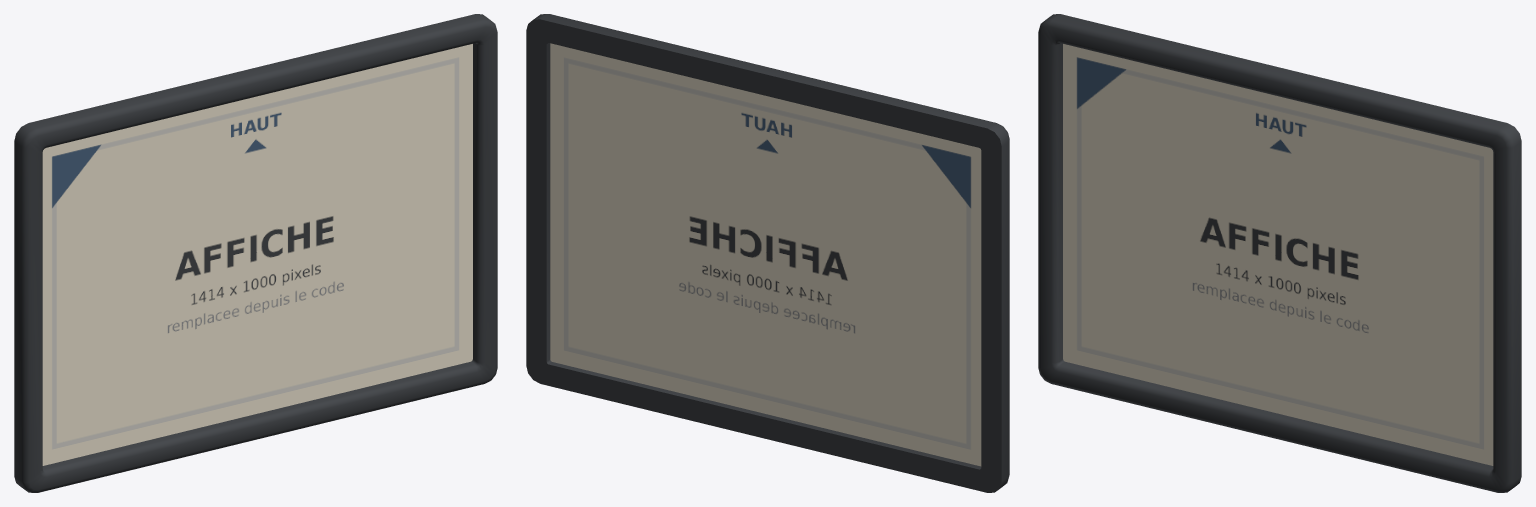
File: affiche_paysage.glb
The picture shows the model from 3 angles, left to right: view 1: azimuth 30°, elevation 25°; view 2: azimuth 150°, elevation 25°; view 3: azimuth 330°, elevation 25°; orthographic projection.
Visible parts, largest first — view 1: AFL_Affiche, AFL_Anthracite; view 2: AFL_Affiche, AFL_Anthracite; view 3: AFL_Affiche, AFL_Anthracite.
Part boxes in pixels (x1,y1,x2,y2): AFL_Affiche: (42,44,472,465); AFL_Anthracite: (14,14,497,492); AFL_Affiche: (550,43,981,466); AFL_Anthracite: (526,14,1009,492); AFL_Affiche: (1063,44,1493,465); AFL_Anthracite: (1038,14,1521,492).
Bounding box in the file's own units: 0.9285 × 0.68 × 0.035.
Materials: 2 (1 with a texture image).
